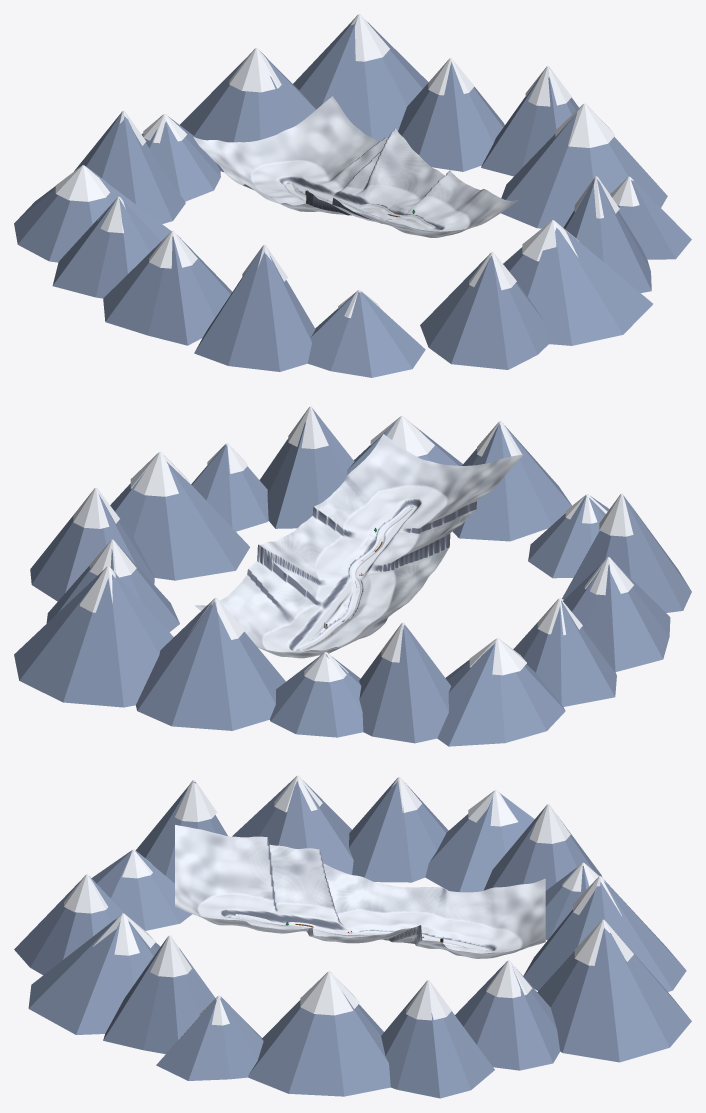
Rendered from floresta_gigante.glb.
The picture shows the model from 3 angles, top to bottom: view 1: azimuth 30°, elevation 25°; view 2: azimuth 150°, elevation 25°; view 3: azimuth 270°, elevation 25°; orthographic projection.
Visible parts, largest first — view 1: terrain, mtn3, mtn4, mtn6, mtn0, mtn7, mtn13, mtn14, mtn5, mtn12, mtn8, mtn10 (+17 smaller); view 2: terrain, mtn13, mtn12, mtn0, mtn9, mtn10, mtn4, mtn7, mtn8, mtn2, mtn6, mtn11 (+20 smaller); view 3: terrain, mtn13, mtn0, mtn3, mtn15, mtn8, mtn14, mtn2, mtn12, mtn1, mtn9, mtn7 (+20 smaller).
Boxes of the visible parts, x1,y1,x2,y2 form: terrain: [193, 96, 518, 237]; mtn3: [503, 226, 652, 345]; mtn4: [420, 256, 548, 369]; mtn6: [194, 247, 315, 371]; mtn0: [501, 112, 667, 228]; mtn7: [103, 235, 232, 345]; mtn13: [293, 21, 428, 141]; mtn14: [398, 61, 504, 171]; mtn5: [307, 291, 425, 377]; mtn12: [180, 51, 316, 172]; mtn8: [52, 199, 160, 298]; mtn10: [74, 112, 185, 223]; terrain: [195, 434, 523, 658]; mtn13: [14, 571, 173, 707]; mtn12: [135, 601, 285, 730]; mtn0: [110, 461, 249, 580]; mtn9: [437, 643, 565, 746]; mtn10: [359, 625, 450, 743]; mtn4: [452, 423, 571, 541]; mtn7: [563, 561, 670, 672]; mtn8: [513, 600, 616, 706]; mtn2: [259, 408, 354, 528]; mtn6: [562, 495, 691, 612]; mtn11: [269, 654, 363, 737]; terrain: [175, 825, 545, 958]; mtn13: [537, 928, 691, 1062]; mtn0: [248, 992, 390, 1096]; mtn3: [28, 919, 160, 1034]; mtn15: [381, 987, 494, 1098]; mtn8: [349, 778, 448, 882]; mtn14: [455, 962, 560, 1070]; mtn2: [103, 938, 215, 1054]; mtn12: [523, 880, 686, 991]; mtn1: [156, 996, 263, 1080]; mtn9: [425, 793, 534, 892]; mtn7: [232, 780, 353, 874].
Size of what is drawn, in the model's own units: 2958 by 515 by 3106.
